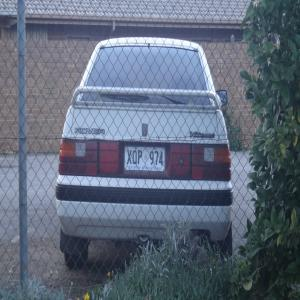Vehicle-registration-plate: (123, 138, 174, 181)
